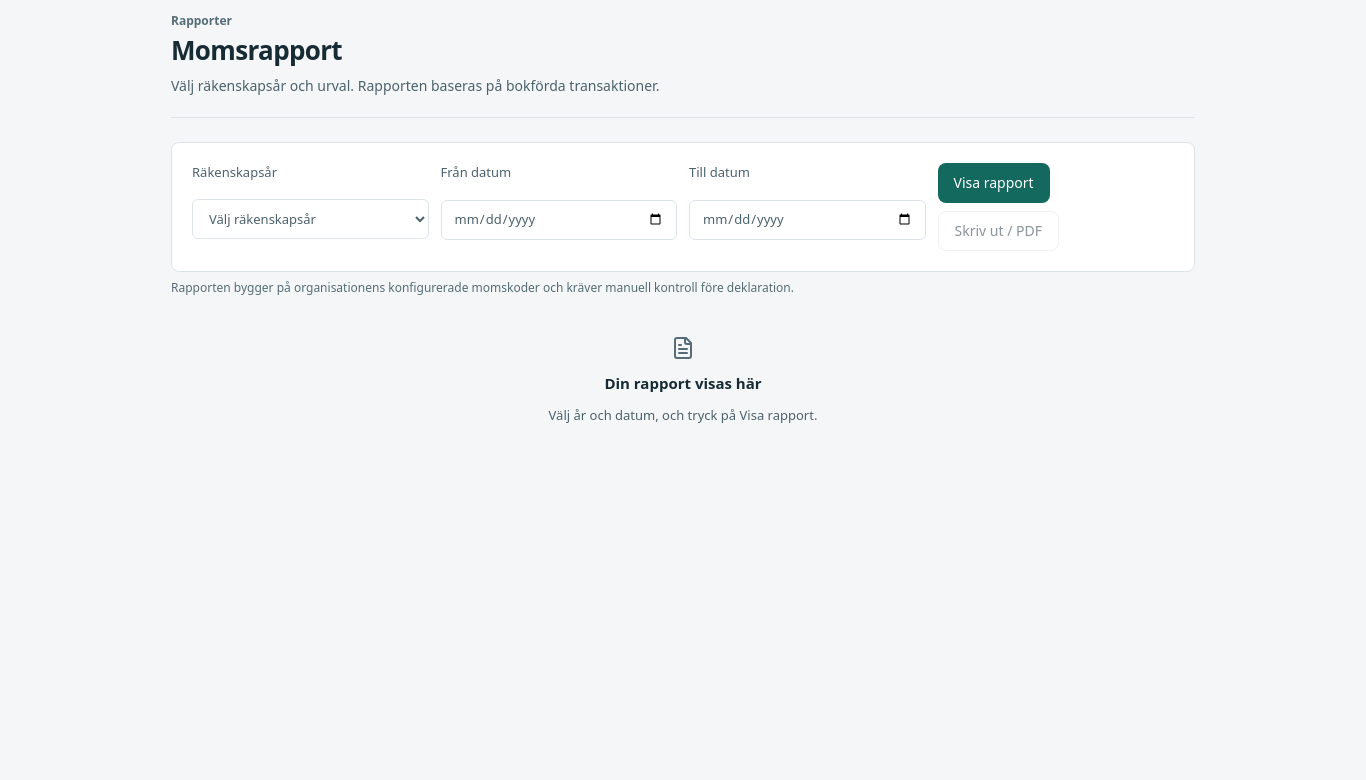
Test: renders literal Golden bases/taxes/period and insists on review
Select "2026 · Öppet" in the dropdown labelled "Räkenskapsår" at (310, 219), box x1=192 y1=199 x2=428 y2=239
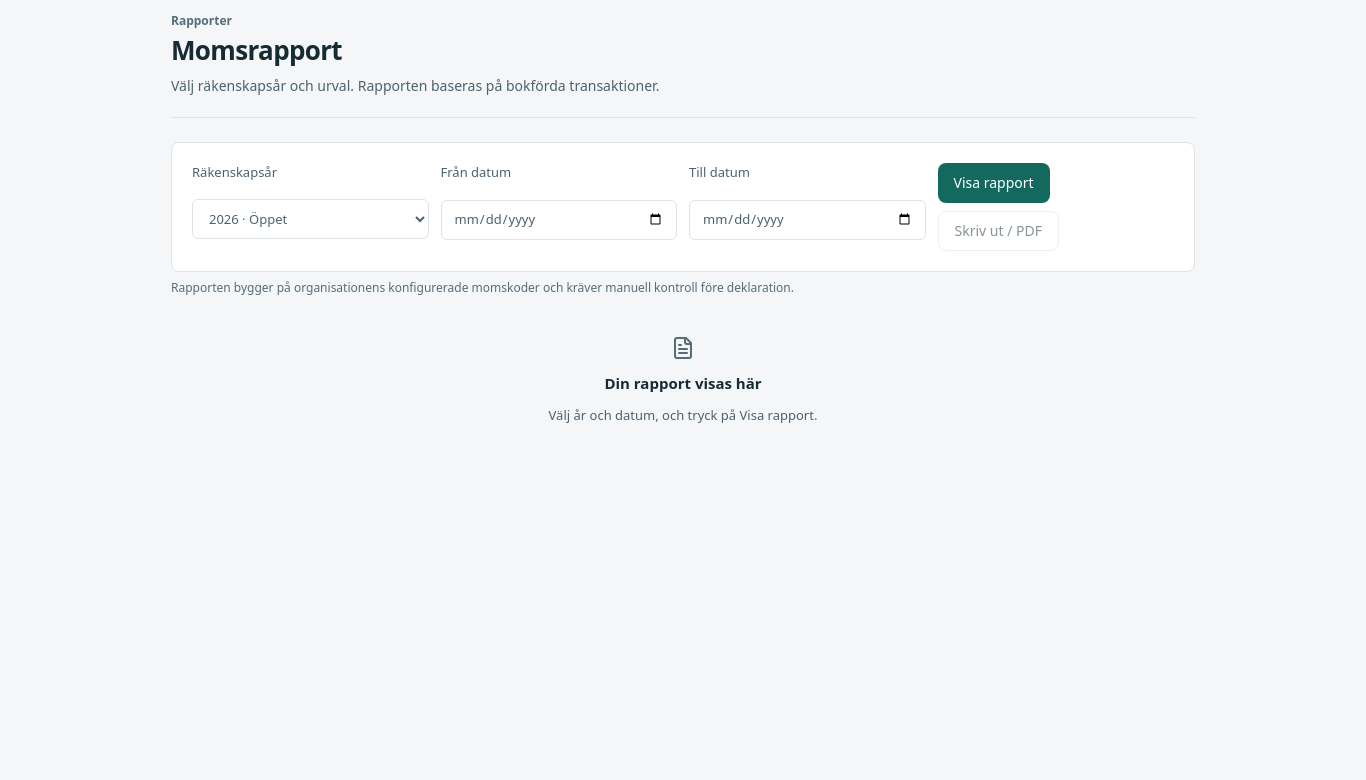
Type "2026-01-01" into the date field labelled "Från datum".
click(559, 220); type("2026-01-01")  # box x1=440 y1=200 x2=677 y2=240
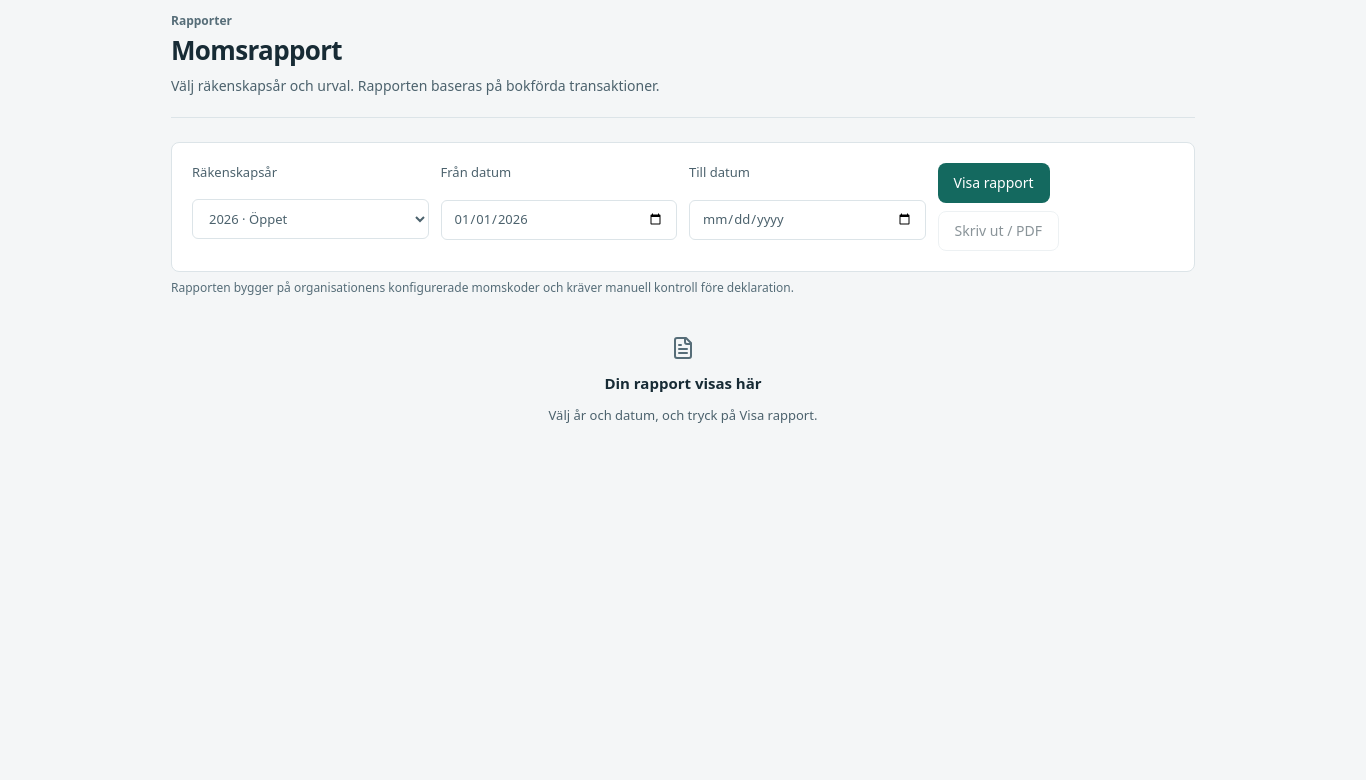
Type "2026-01-31" into the date field labelled "Till datum".
click(807, 220); type("2026-01-31")  # box x1=689 y1=200 x2=926 y2=240
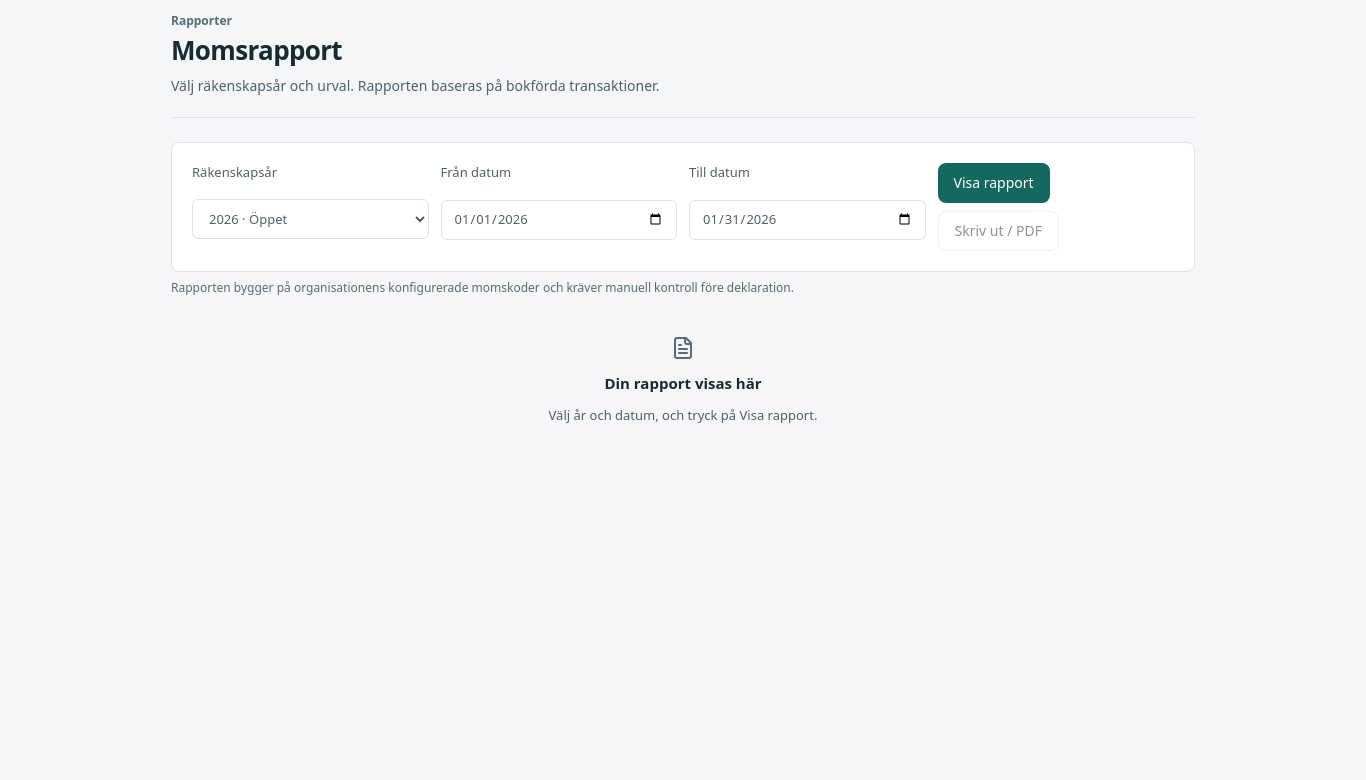
Click the button "Visa rapport".
click(994, 183)  # box x1=938 y1=163 x2=1050 y2=203
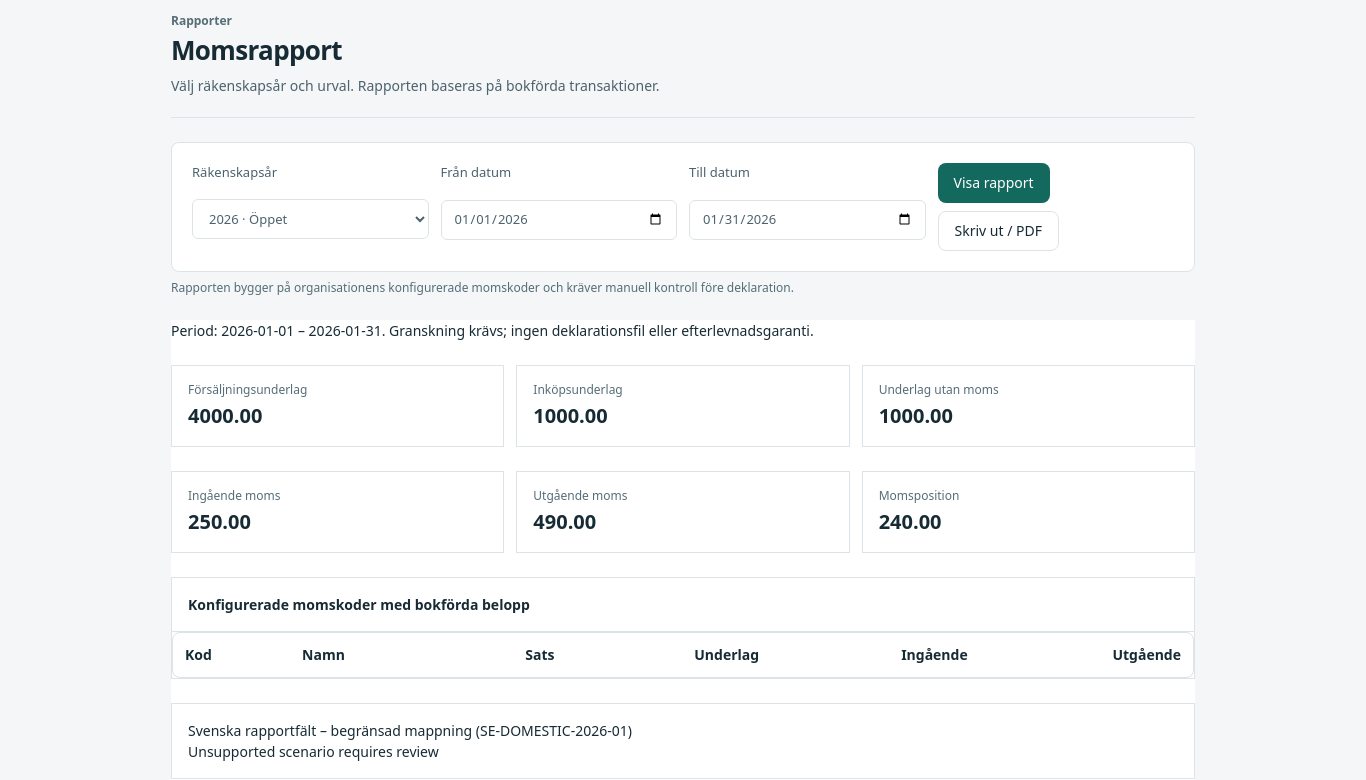
Expected: the text "4000.00" is shown, x1=188 y1=402 x2=262 y2=429
Expected: the text "490.00" is shown, x1=533 y1=508 x2=596 y2=535
Expected: the text "250.00" is shown, x1=188 y1=508 x2=251 y2=535
